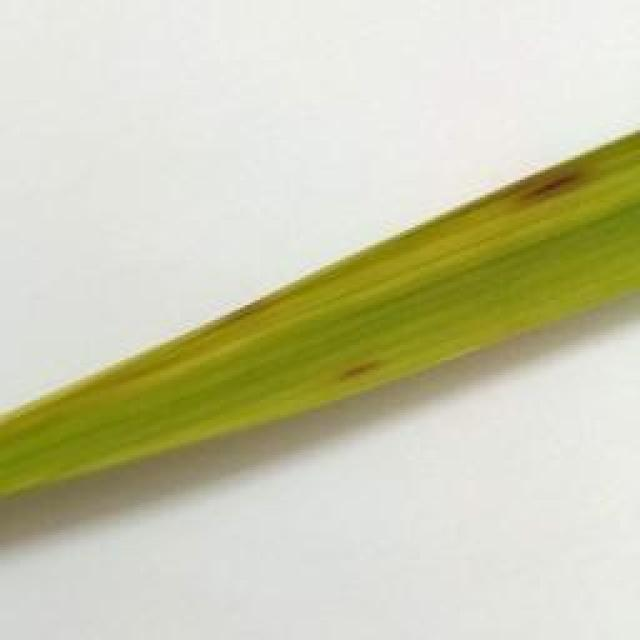Brown_Spot: (506, 153, 598, 209), (326, 348, 395, 394)
